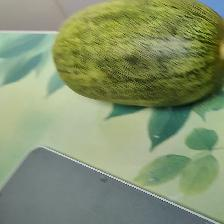gua: (58, 12, 216, 102)
